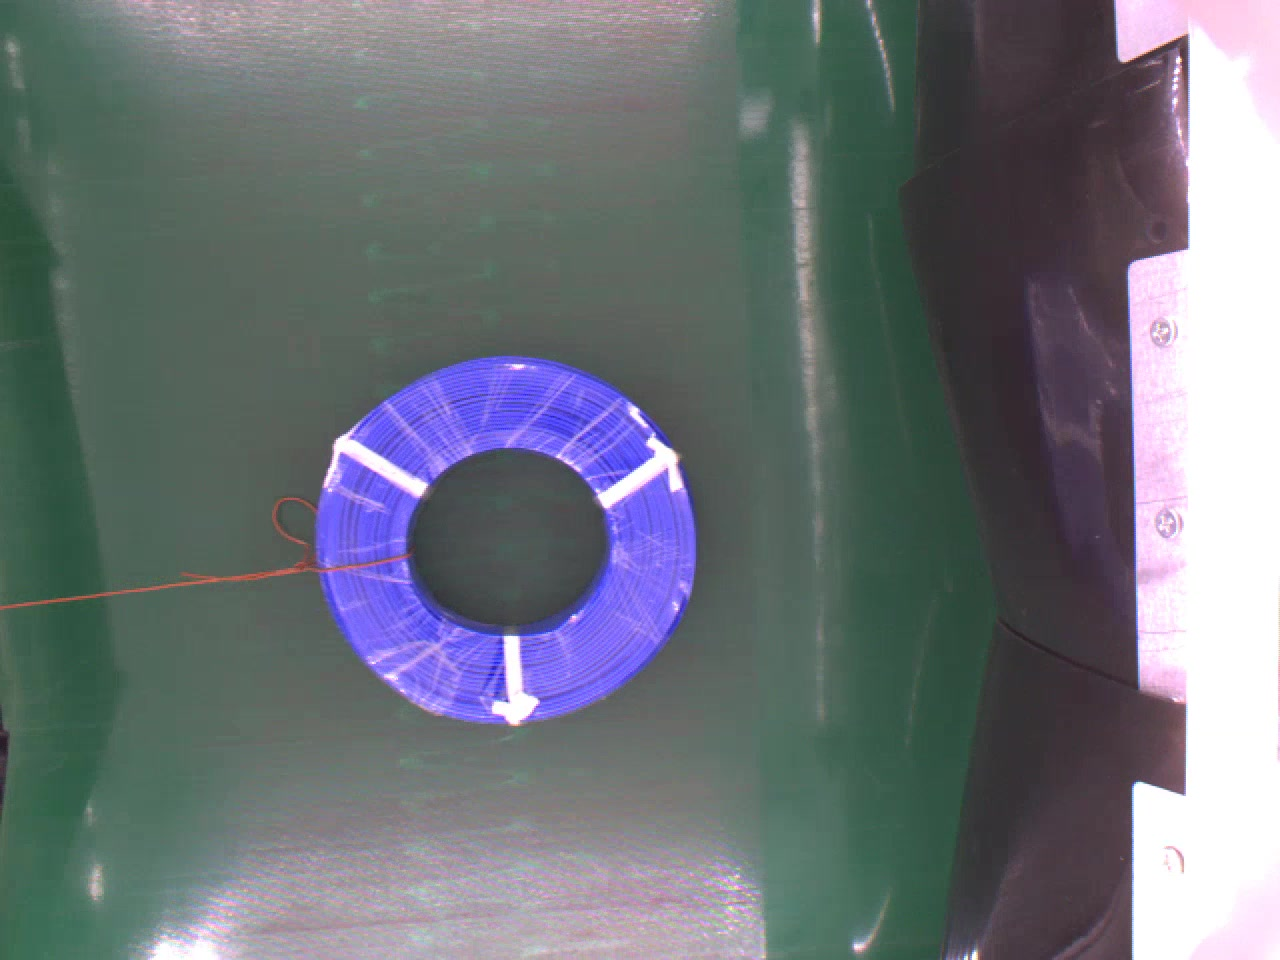blue: (314, 351, 700, 730)
